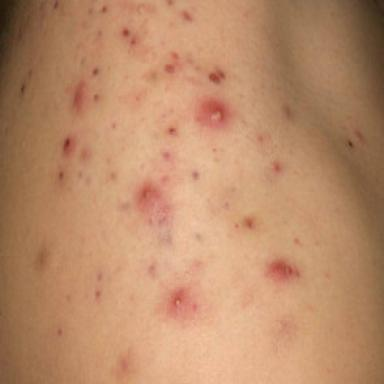acne: (197, 98, 227, 126), (267, 259, 300, 280), (137, 182, 160, 211), (171, 289, 187, 315), (73, 81, 85, 112), (63, 137, 75, 155), (243, 218, 254, 229), (273, 161, 281, 173), (165, 65, 175, 73), (169, 127, 176, 135)
